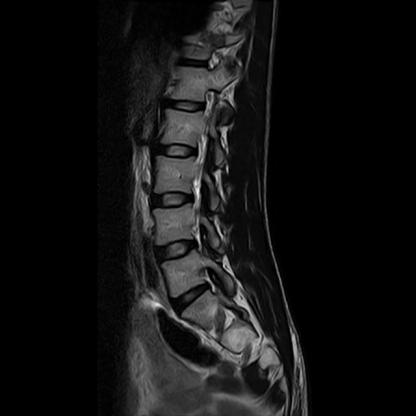Degenerative Disc Diseaserotation: (169, 283, 214, 312)
Disc Bulgerotation: (170, 283, 215, 313)
